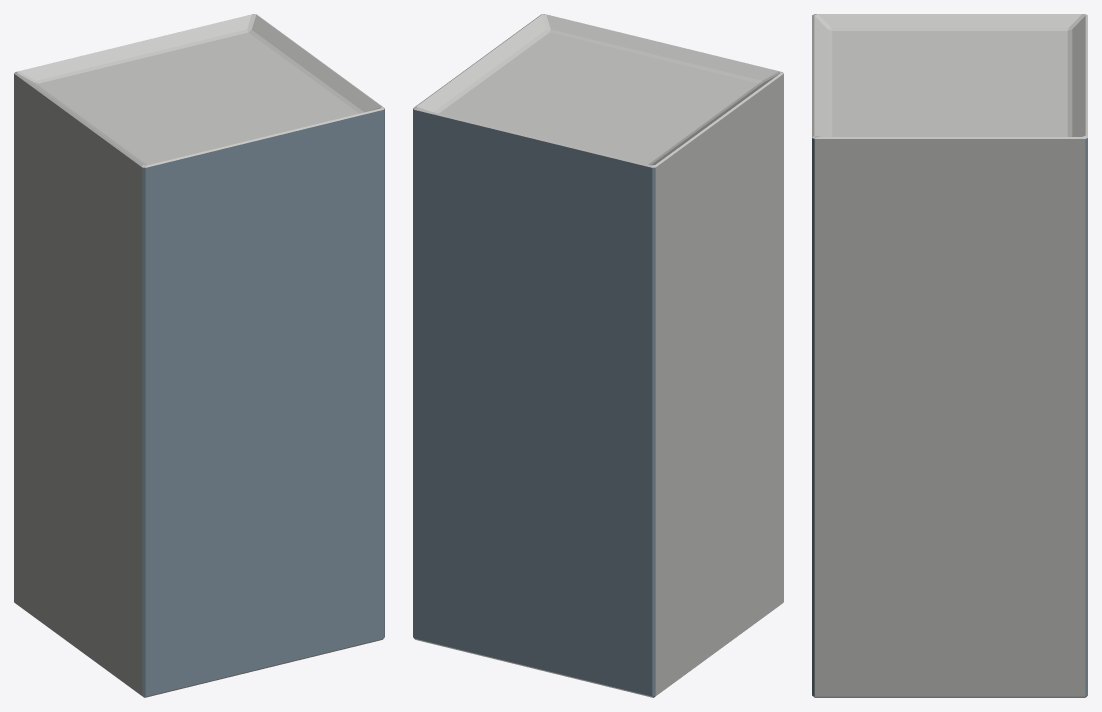
The model's file is town_slab_6.glb.
3 renders of one model, left to right at view 1: azimuth 30°, elevation 25°; view 2: azimuth 150°, elevation 25°; view 3: azimuth 270°, elevation 25°, orthographic. The views are drawn at different scales.
Visible parts, largest first — view 1: slab; view 2: slab; view 3: slab.
Part boxes in pixels (x1,y1,x2,y2): slab: (14,14,384,697); slab: (413,14,783,697); slab: (812,14,1087,697).
Size of the model in its own units: 0.3 by 0.6285 by 0.28.
